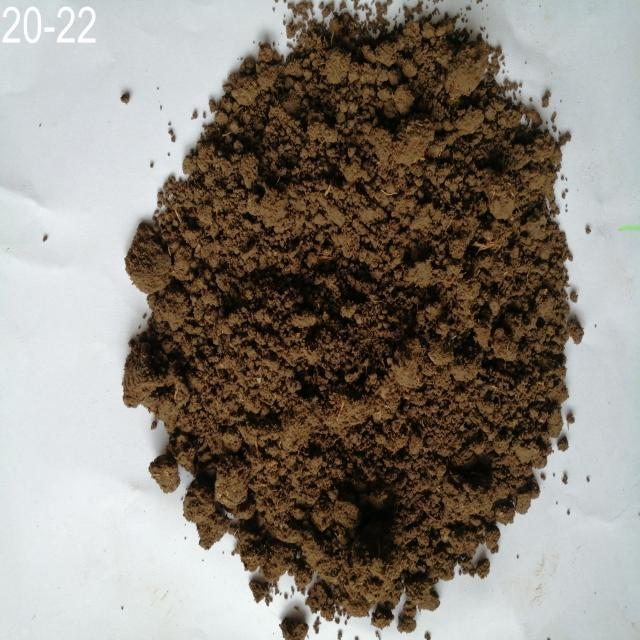soil: (222, 130, 526, 504)
